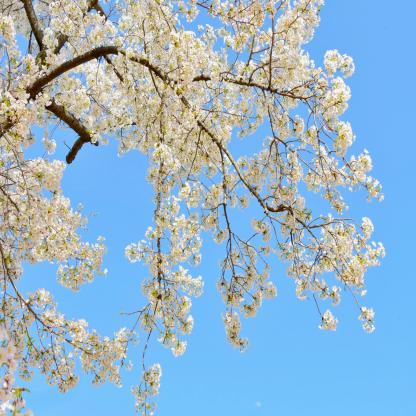OshimaSakura: (0, 1, 388, 415)
